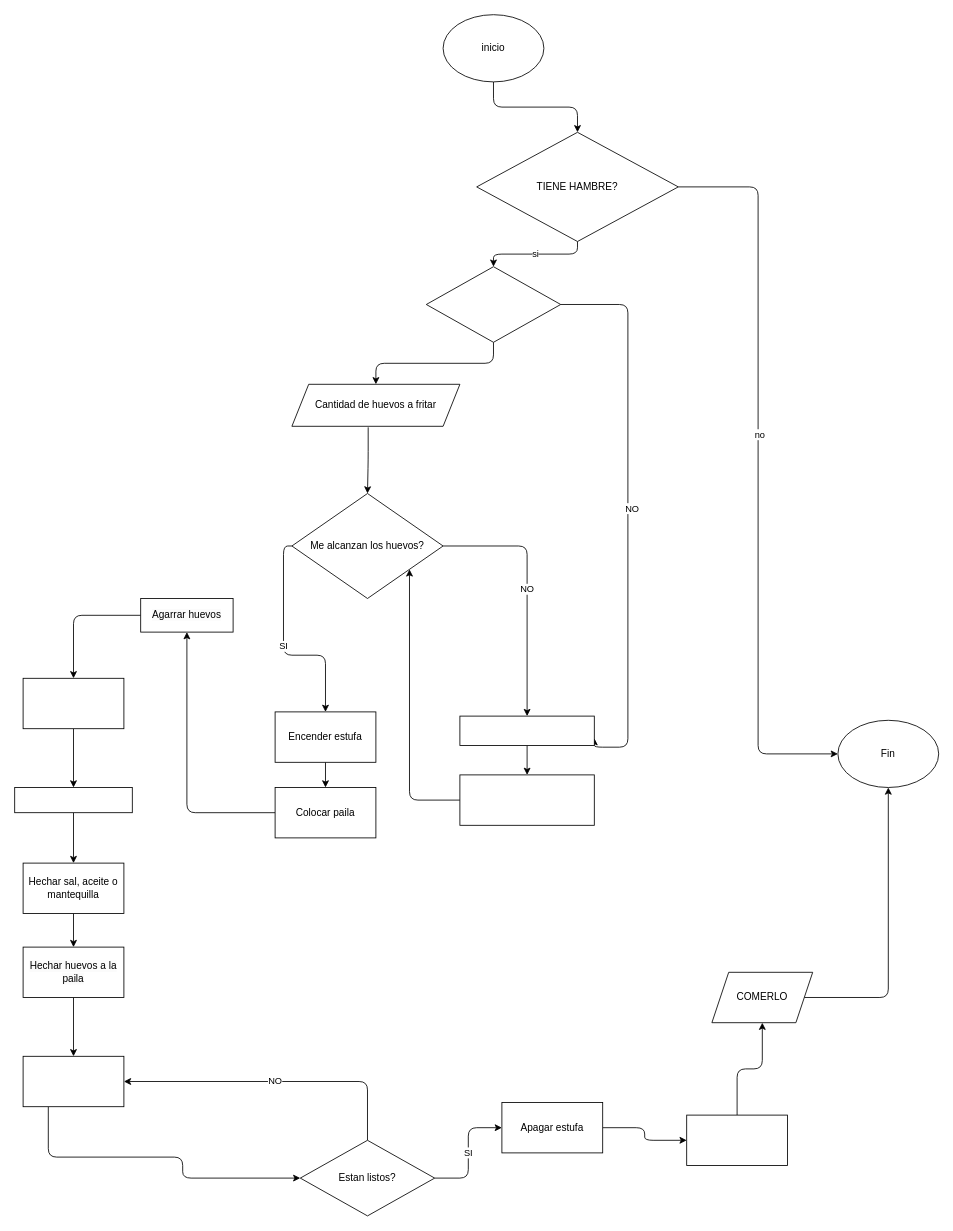
This 953x1231 diagram has some shape labels left out. The centre of each missing label's shape, as x and y in pixels:
"Batir huevos" goes at point (73, 800).
"Cascar huevos" goes at point (73, 703).
"Comprar huevos" goes at point (526, 799).
"Esperar a que esten listos" goes at point (73, 1081).
"Salir a la tienda" goes at point (526, 730).
"Servir en plato" goes at point (737, 1140).
"Tiene huevos" goes at point (493, 304).
